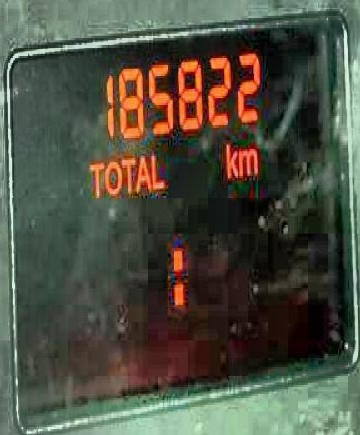1: (103, 67, 117, 142)
2: (205, 51, 231, 129), (236, 51, 260, 124)
5: (147, 60, 173, 138)
8: (118, 60, 144, 140), (177, 53, 203, 131)
X: (168, 235, 184, 311), (85, 153, 102, 198), (238, 144, 258, 178), (104, 156, 120, 198), (149, 149, 165, 189), (135, 151, 150, 193), (120, 153, 135, 191), (224, 138, 236, 180)
